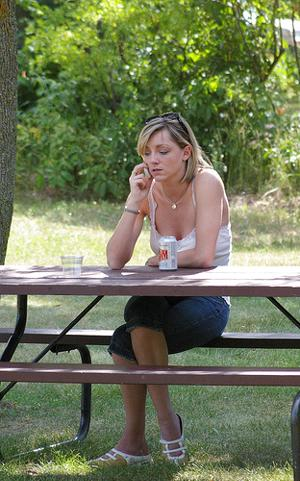person: (105, 111, 233, 468)
